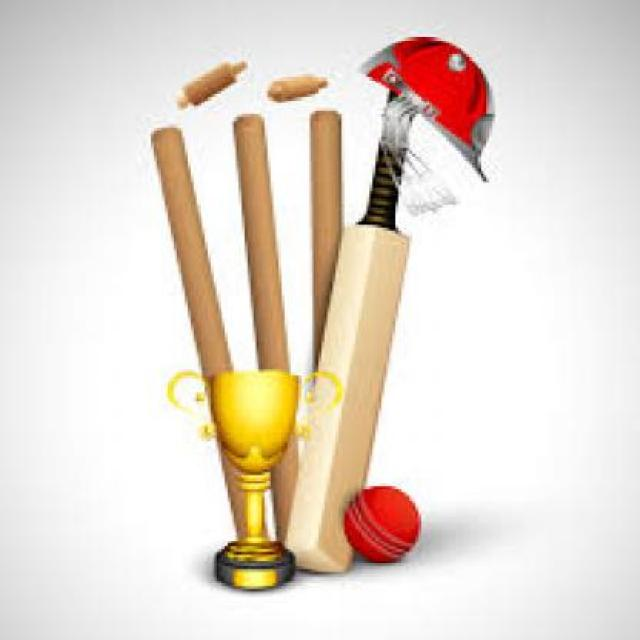ball: (337, 476, 430, 575)
